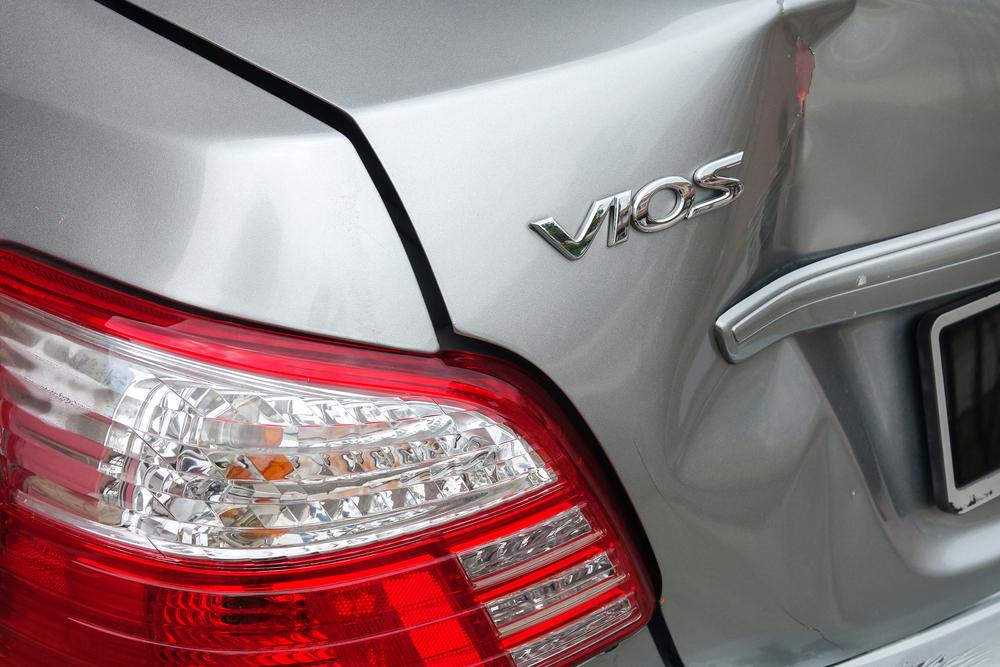dent: (661, 0, 906, 488)
